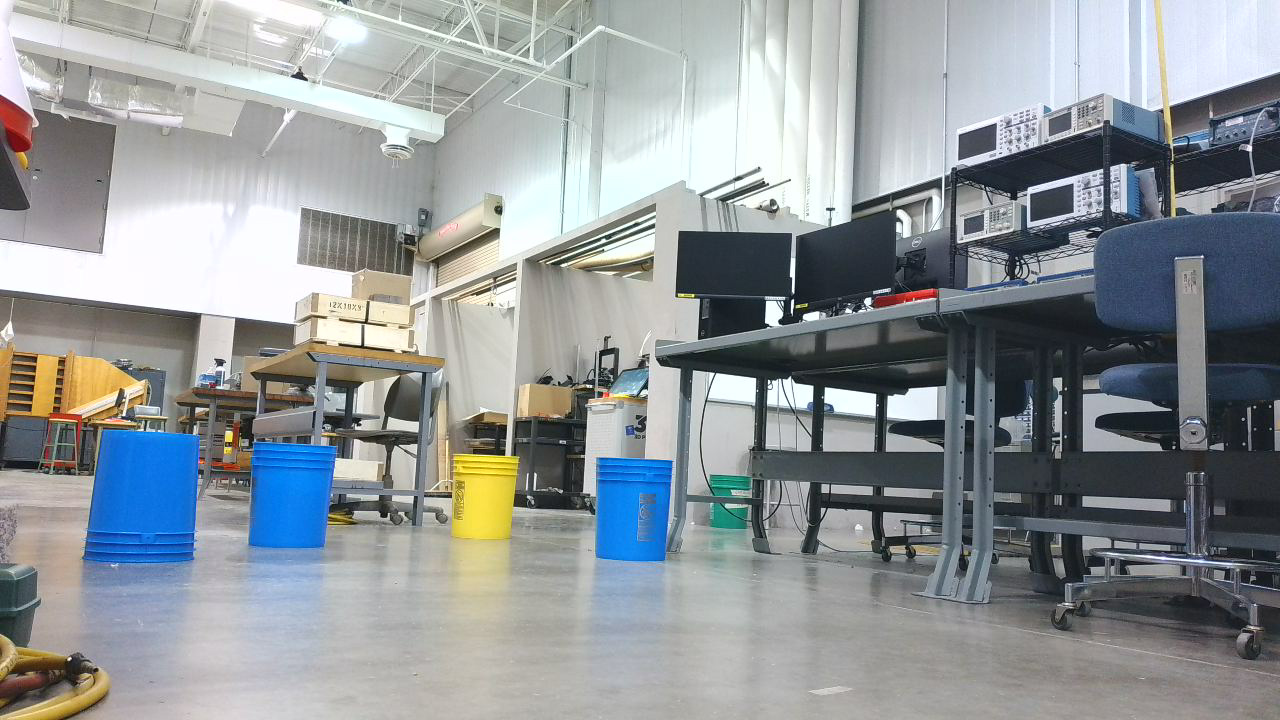blue_bucket: (82, 431, 207, 574), (249, 442, 345, 557), (595, 458, 681, 570)
yellow_bucket: (453, 456, 528, 550)
